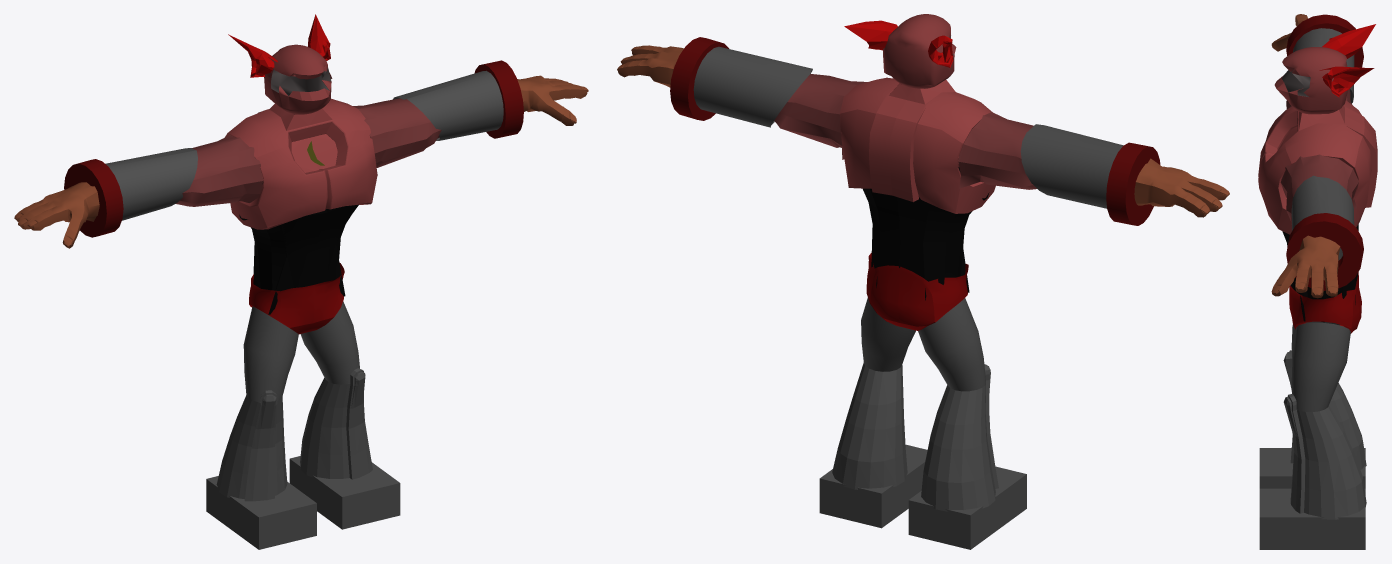
Rendered from VampMechTriRunTest.fbx.
3 views of the same model, side by side, from view 1: azimuth 30°, elevation 25°; view 2: azimuth 150°, elevation 25°; view 3: azimuth 270°, elevation 25° (orthographic). The views are drawn at different scales.
Parts seen in each view (by area): view 1: arm_rt_upper, torso, arm_rt_upper1, abdomen, leg_lf_lower, leg_rt_lower, foot_r, foot_l, leg_rt_upper, pelvis, helmet, leg_lf_upper (+2 smaller); view 2: arm_rt_upper, torso, arm_rt_upper1, leg_rt_lower, leg_lf_lower, abdomen, foot_r, pelvis, foot_l, leg_rt_upper, helmet, leg_lf_upper (+1 smaller); view 3: arm_rt_upper1, torso, leg_lf_lower, foot_l, leg_lf_upper, helmet, arm_rt_upper, pelvis, leg_rt_lower, foot_r, ear_l, ear_r (+2 smaller).
Boxes of the visible parts, x1,y1,x2,y2 form: arm_rt_upper: [14, 135, 263, 248]; torso: [224, 98, 377, 229]; arm_rt_upper1: [353, 60, 588, 167]; abdomen: [239, 182, 358, 314]; leg_lf_lower: [300, 368, 372, 479]; leg_rt_lower: [216, 390, 287, 501]; foot_r: [206, 476, 316, 549]; foot_l: [289, 456, 400, 529]; leg_rt_upper: [243, 306, 298, 402]; pelvis: [249, 262, 344, 334]; helmet: [264, 44, 332, 114]; leg_lf_upper: [300, 301, 359, 384]; arm_rt_upper: [958, 111, 1229, 225]; torso: [840, 77, 995, 213]; arm_rt_upper1: [617, 37, 866, 159]; leg_rt_lower: [921, 364, 998, 511]; leg_lf_lower: [832, 362, 907, 489]; abdomen: [863, 167, 989, 300]; foot_r: [908, 466, 1026, 549]; pelvis: [866, 253, 968, 330]; foot_l: [819, 444, 927, 528]; leg_rt_upper: [918, 298, 985, 391]; helmet: [883, 14, 956, 88]; leg_lf_upper: [861, 297, 915, 371]; arm_rt_upper1: [1271, 154, 1363, 298]; torso: [1258, 100, 1377, 234]; leg_lf_lower: [1283, 394, 1366, 519]; foot_l: [1259, 488, 1365, 549]; leg_lf_upper: [1291, 322, 1350, 411]; helmet: [1274, 47, 1347, 114]; arm_rt_upper: [1271, 14, 1363, 109]; pelvis: [1289, 272, 1361, 333]; leg_rt_lower: [1283, 350, 1366, 469]; foot_r: [1259, 448, 1365, 488]; ear_l: [1319, 66, 1374, 97]; ear_r: [1322, 24, 1375, 58].
Bounding box in the file's own units: 238 × 189 × 43.55.
